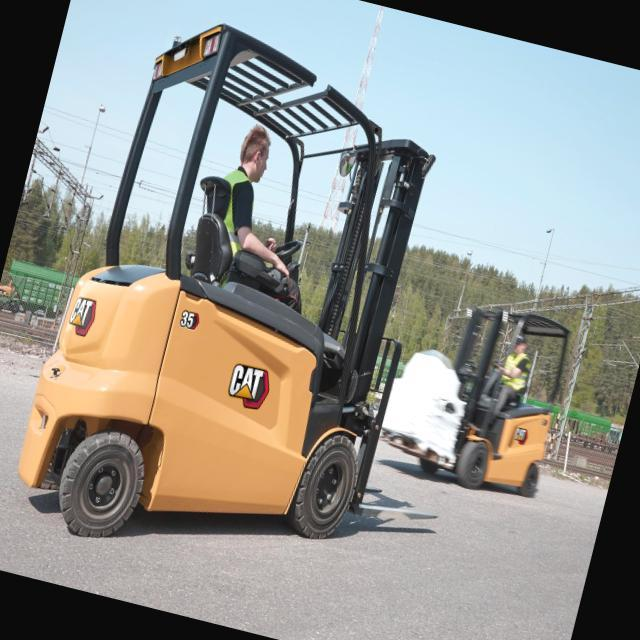driver: (189, 111, 335, 309)
forklift: (0, 0, 481, 607)
